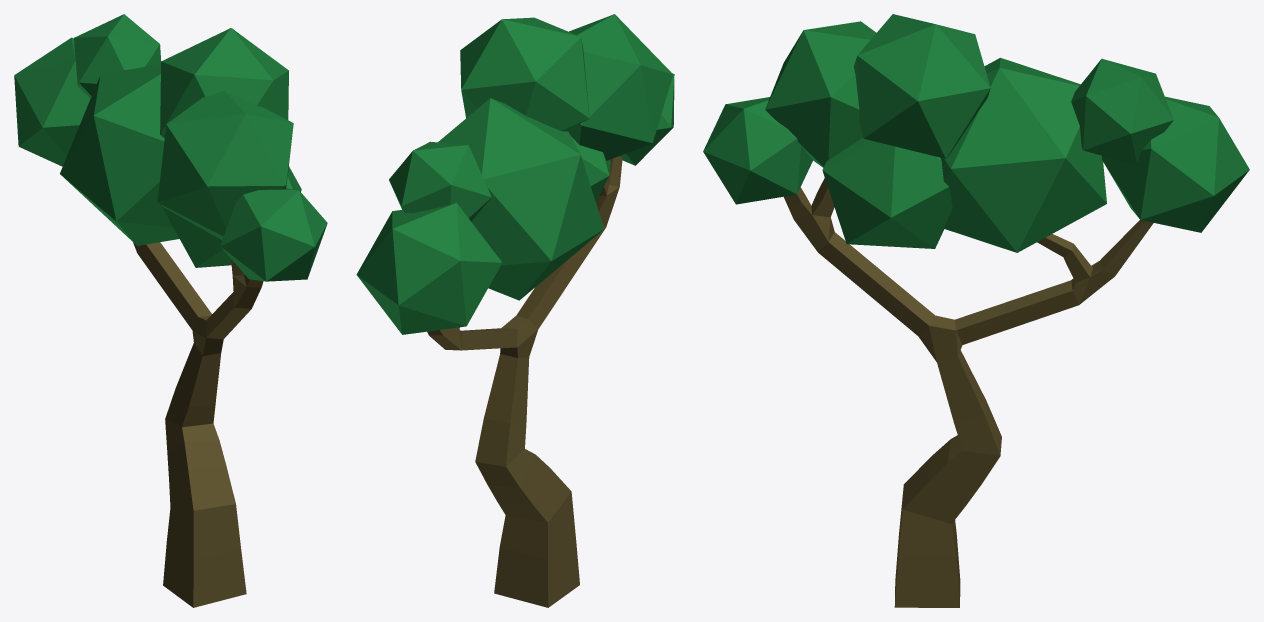
The model's file is Tree3.fbx.
The picture shows the model from 3 angles, left to right: view 1: azimuth 30°, elevation 25°; view 2: azimuth 150°, elevation 25°; view 3: azimuth 270°, elevation 25°; orthographic projection. The views are drawn at different scales.
Visible parts, largest first — view 1: Cube, Icosphere.002, Icosphere.003, Icosphere.005, Icosphere, Icosphere.004, Icosphere.006, Icosphere.001; view 2: Cube, Icosphere.002, Icosphere.004, Icosphere.005, Icosphere.003, Icosphere.006, Icosphere, Icosphere.001; view 3: Cube, Icosphere.002, Icosphere.005, Icosphere.004, Icosphere.001, Icosphere.003, Icosphere, Icosphere.006.
Boxes of the visible parts, box(x1,y1,x2,y2) form: Cube: box(133, 242, 263, 607); Icosphere.002: box(60, 64, 179, 245); Icosphere.003: box(157, 90, 293, 236); Icosphere.005: box(160, 28, 288, 137); Icosphere: box(220, 188, 327, 281); Icosphere.004: box(14, 37, 90, 166); Icosphere.006: box(74, 14, 160, 98); Icosphere.001: box(161, 166, 301, 267); Cube: box(427, 156, 622, 607); Icosphere.002: box(438, 98, 604, 300); Icosphere.004: box(356, 202, 502, 334); Icosphere.005: box(460, 17, 589, 132); Icosphere.003: box(569, 14, 673, 160); Icosphere.006: box(389, 141, 491, 221); Icosphere: box(620, 73, 674, 165); Icosphere.001: box(571, 136, 610, 201); Cube: box(784, 178, 1153, 607); Icosphere.002: box(940, 57, 1106, 252); Icosphere.005: box(853, 14, 990, 158); Icosphere.004: box(1101, 96, 1249, 232); Icosphere.001: box(822, 138, 952, 248); Icosphere.003: box(765, 21, 876, 167); Icosphere: box(703, 97, 812, 204); Icosphere.006: box(1071, 58, 1173, 164).
Size of the model in its own units: 258 by 852 by 720.
